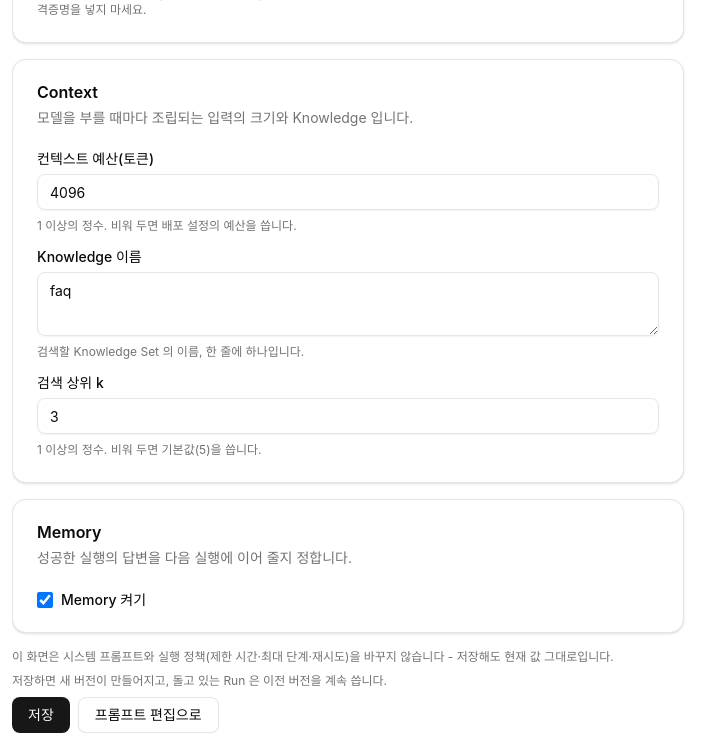
it: SettingsForm (spec 0007 D-5, R-1, R-12) › 액션이 던져도 던진 문구를 보이지 않는다
(page scrolled)
Click the button "저장" at (41, 715), box [12, 697, 70, 732]
(page scrolled)
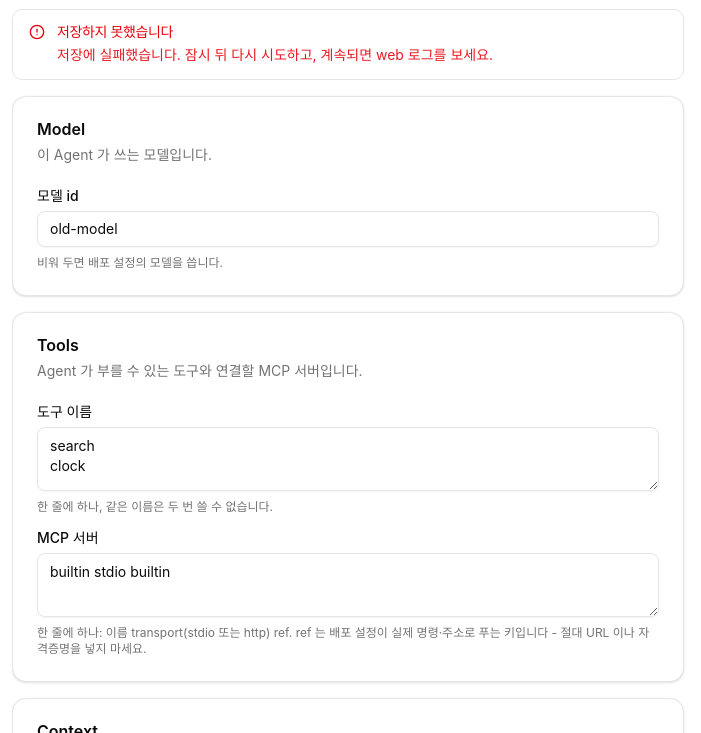
Expected: the message shows "저장에 실패했습니다", [57, 46, 493, 63]
